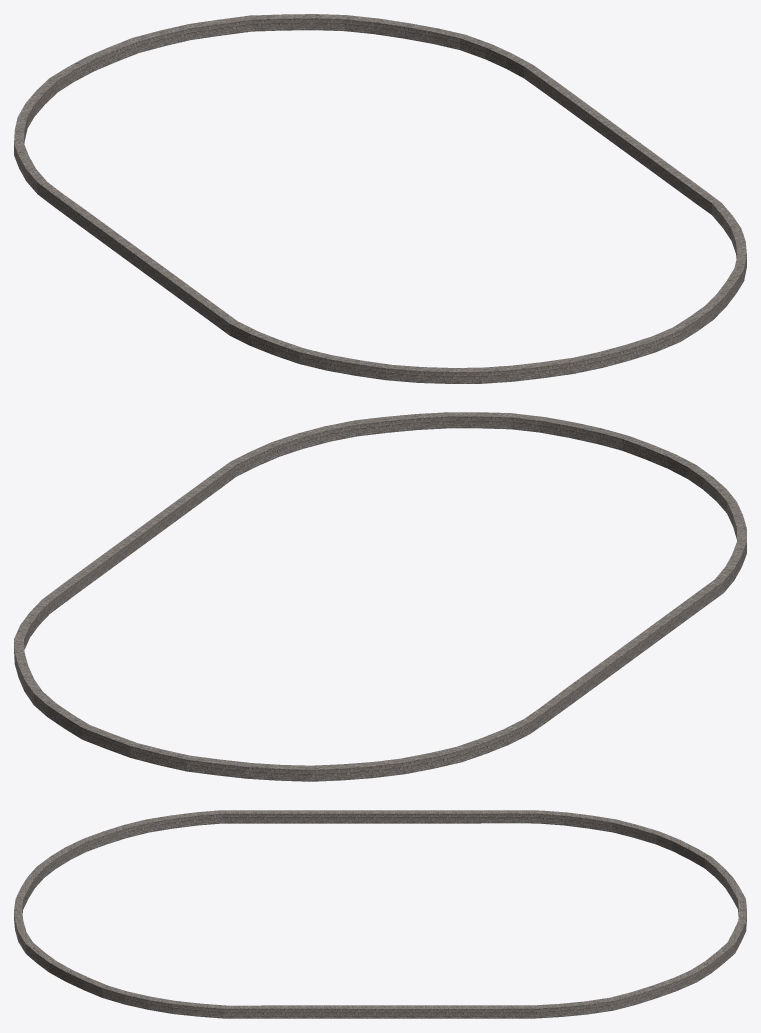
Rendered from ArenaBottomEdge.fbx.
3 renders of one model, top to bottom at view 1: azimuth 30°, elevation 25°; view 2: azimuth 150°, elevation 25°; view 3: azimuth 270°, elevation 25°, orthographic. The views are drawn at different scales.
Visible parts, largest first — view 1: ArenaEdge; view 2: ArenaEdge; view 3: ArenaEdge.
Part boxes in pixels (left/top/right/bottom): ArenaEdge: left=14, top=14, right=746, bottom=383; ArenaEdge: left=14, top=412, right=746, bottom=781; ArenaEdge: left=14, top=810, right=746, bottom=1018.
Size of the model in its own units: 8613 by 200 by 13430.
